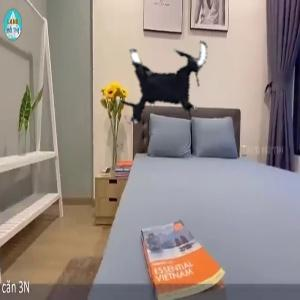drone: (104, 21, 223, 140)
